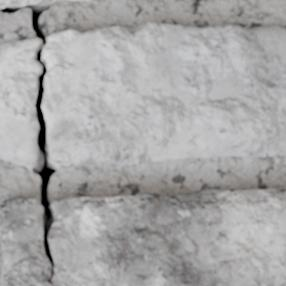brick: (0, 0, 56, 7), (80, 0, 105, 2)
broken_brick: (43, 22, 285, 169), (0, 187, 285, 285), (0, 37, 39, 168)
crack: (0, 2, 61, 283)
